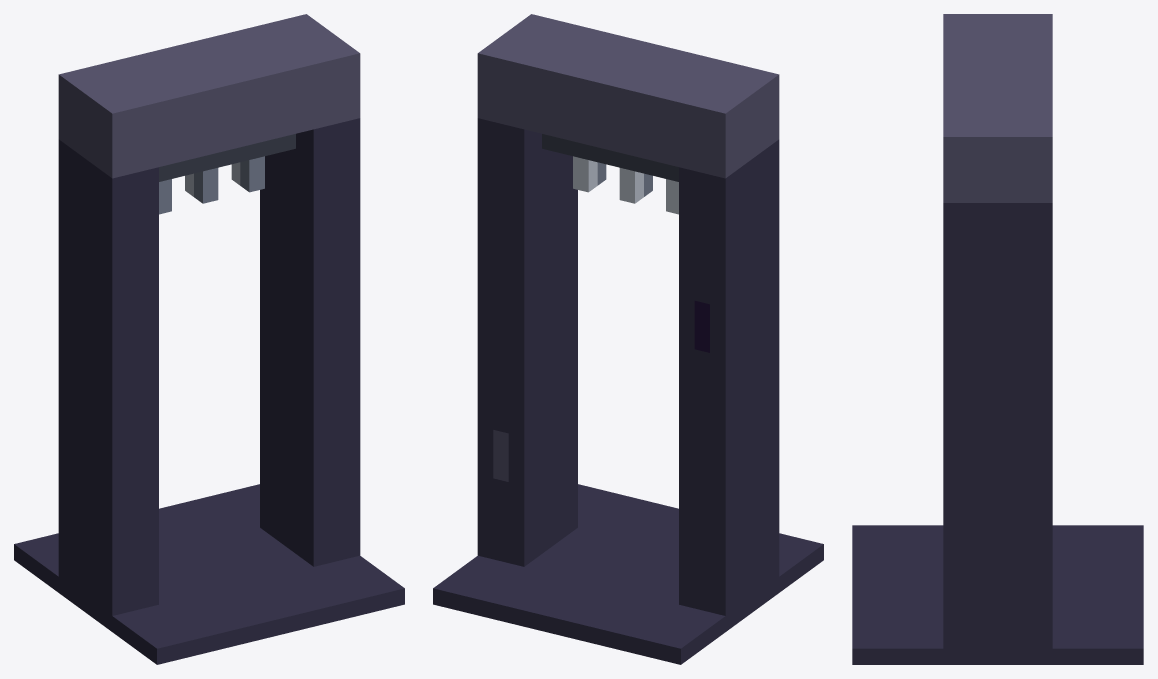
File: portcullis_open.obj
The picture shows the model from 3 angles, left to right: view 1: azimuth 30°, elevation 25°; view 2: azimuth 150°, elevation 25°; view 3: azimuth 270°, elevation 25°; orthographic projection.
Visible parts, largest first — view 1: portcullis_open; view 2: portcullis_open; view 3: portcullis_open.
Part boxes in pixels (<box>): portcullis_open: <box>14,14,404,664</box>; portcullis_open: <box>433,14,823,664</box>; portcullis_open: <box>852,14,1143,664</box>.
Bounding box in the file's own units: 1 × 2 × 1.
Materials: 1 (1 with a texture image).
